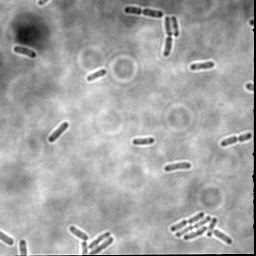Dividing: (219, 130, 253, 149), (88, 234, 115, 255), (123, 6, 163, 20), (161, 15, 174, 57), (87, 230, 111, 250)
Microcolony: (169, 210, 232, 245)
Rod: (46, 121, 71, 144), (12, 44, 38, 60), (188, 59, 216, 73), (162, 160, 192, 173), (68, 225, 90, 242), (85, 68, 108, 83), (170, 14, 181, 38), (131, 136, 155, 147)
